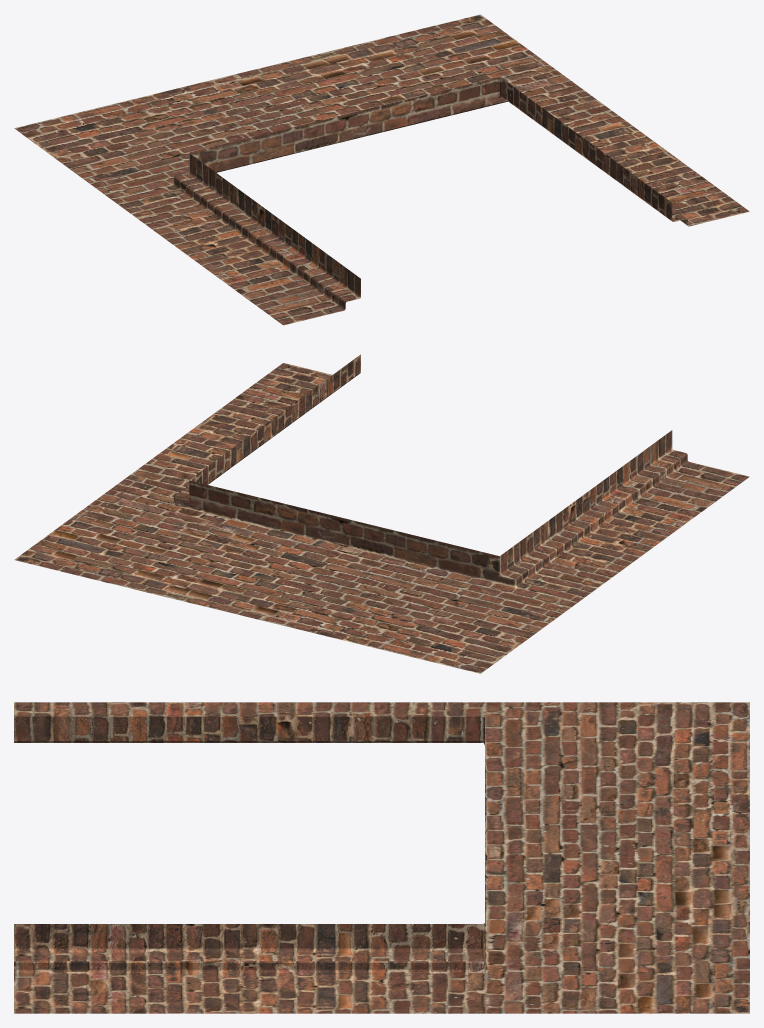
Rendered from wall_window_tall_large_01.gltf.
3 views of the same model, one above another, from view 1: azimuth 30°, elevation 25°; view 2: azimuth 150°, elevation 25°; view 3: azimuth 270°, elevation 25° (orthographic). The views are drawn at different scales.
Visible parts, largest first — view 1: wall_window_tall_large_01; view 2: wall_window_tall_large_01; view 3: wall_window_tall_large_01.
Boxes of the visible parts, x1,y1,x2,y2 form: wall_window_tall_large_01: [14, 14, 749, 325]; wall_window_tall_large_01: [14, 354, 749, 673]; wall_window_tall_large_01: [14, 702, 749, 1013].
Size of the model in its own units: 3 by 0.17 by 3.
1 material, 1 textured.
